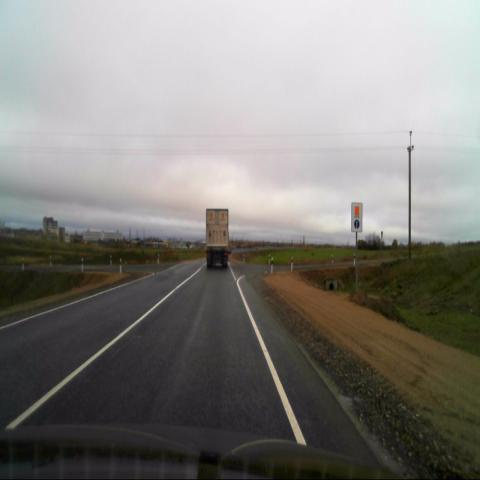4_8_2: (351, 202, 363, 233)
